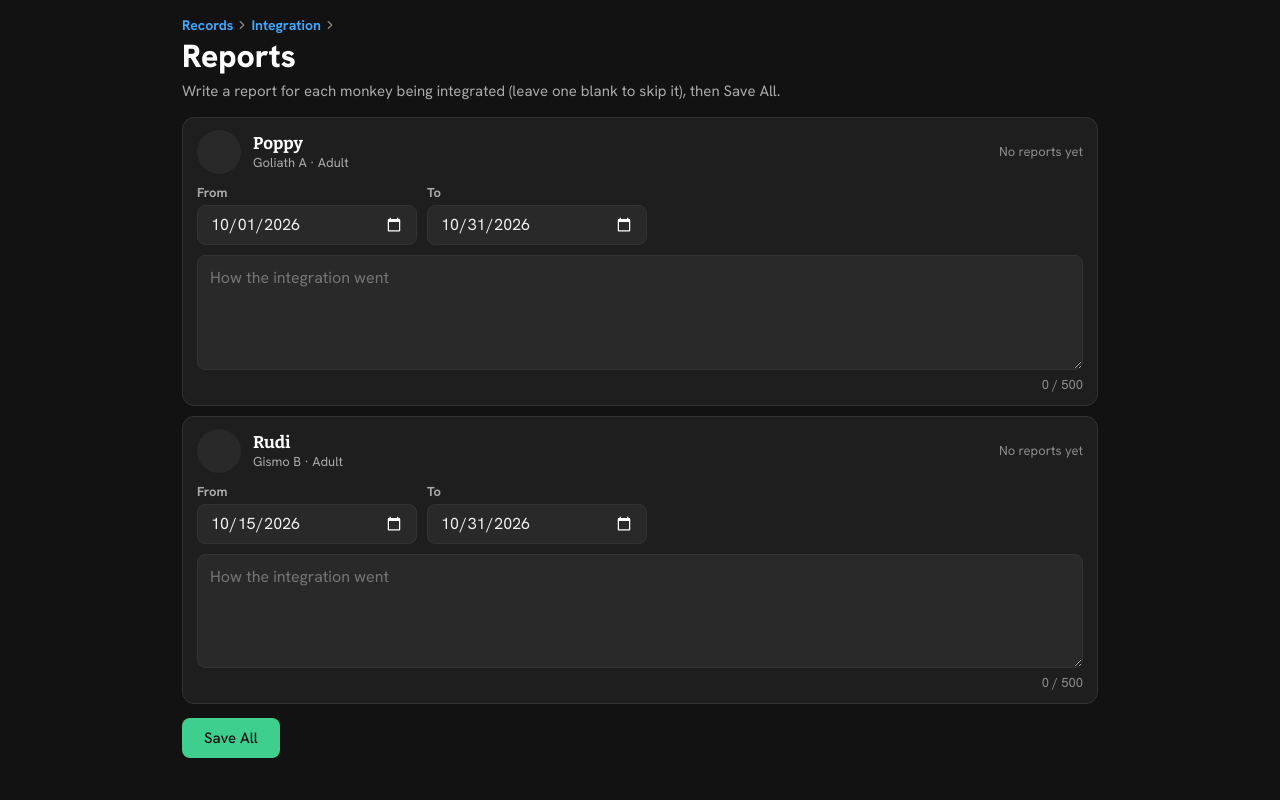
Reports › Save All: the ones with a report, together; the rest skipped
The width and height of the screenshot is (1280, 800).
Step 1. Type "Groomed by two adults; calm." into the text box labelled "Poppy" → coordinates (640, 312), box top-left (197, 255), bottom-right (1083, 370)
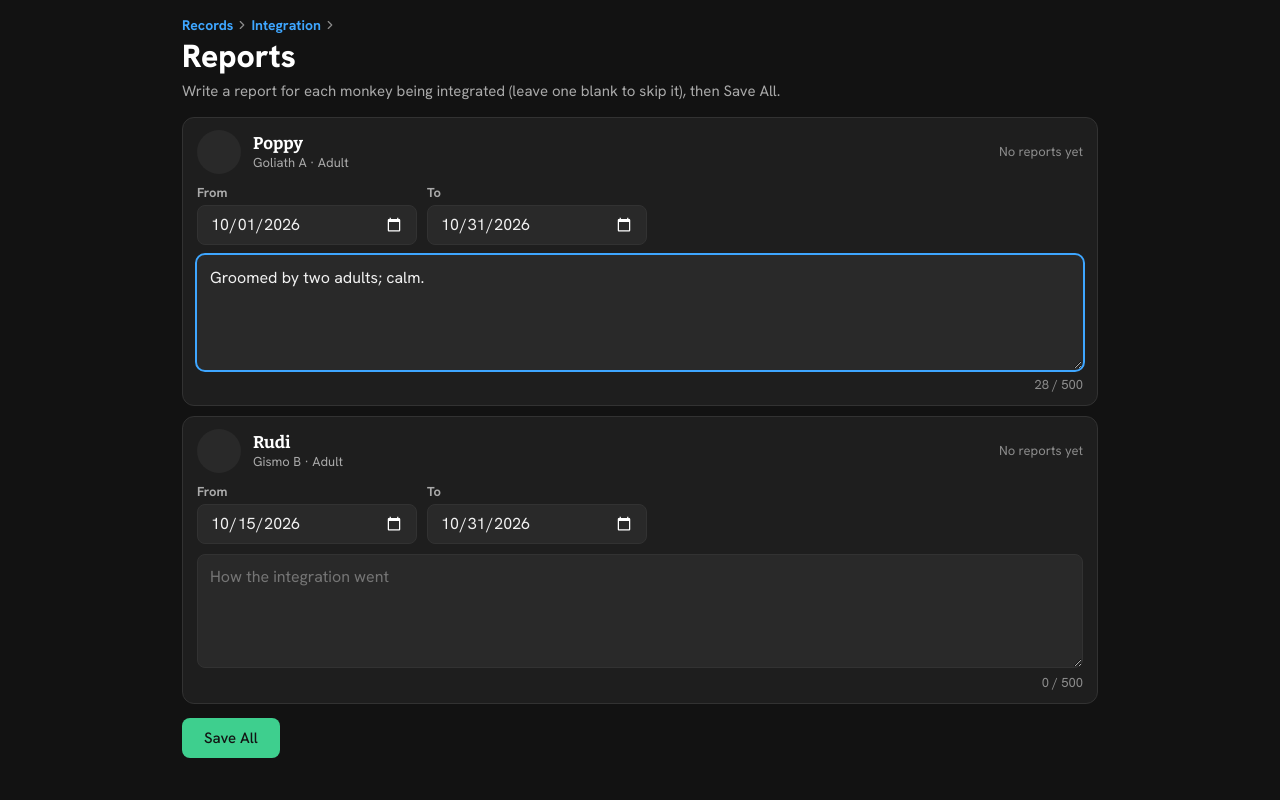
Expected: the text "28 / 500" is shown, top-left (1034, 376), bottom-right (1083, 392)
Step 2. Click the button "Save All" → coordinates (231, 738), box top-left (182, 718), bottom-right (280, 758)
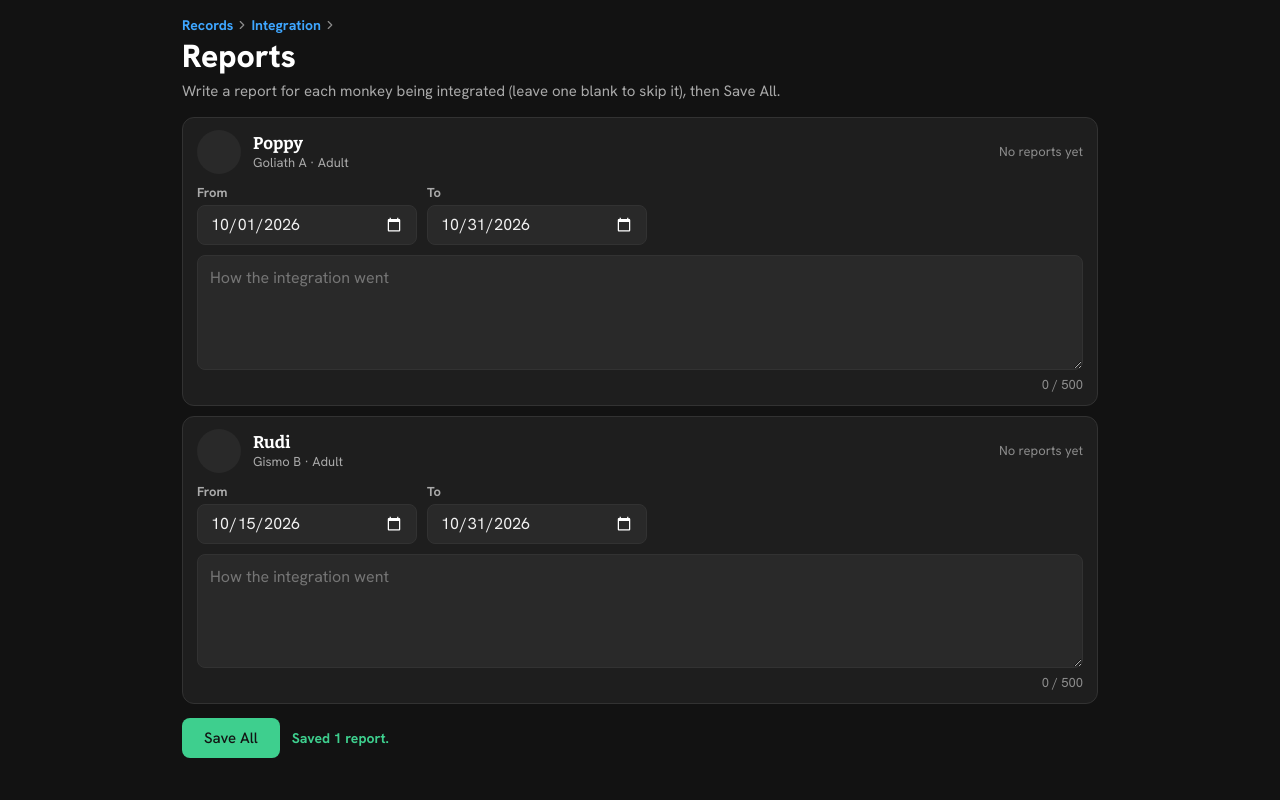
Expected: the text "Saved 1 report." is shown, top-left (292, 729), bottom-right (389, 747)
Expected: the text box labelled "Poppy" is empty, top-left (197, 255), bottom-right (1083, 370)
